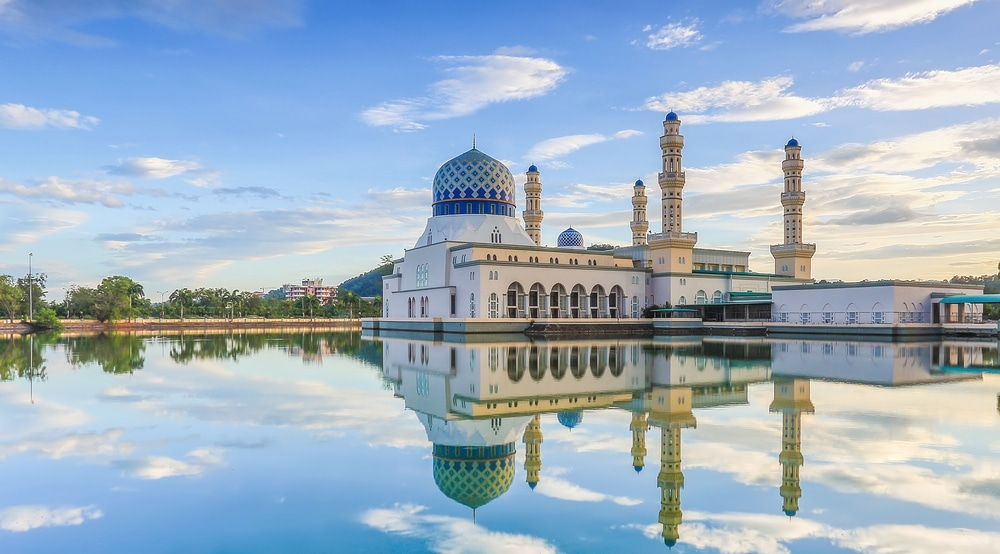Mosque: (385, 99, 821, 340)
